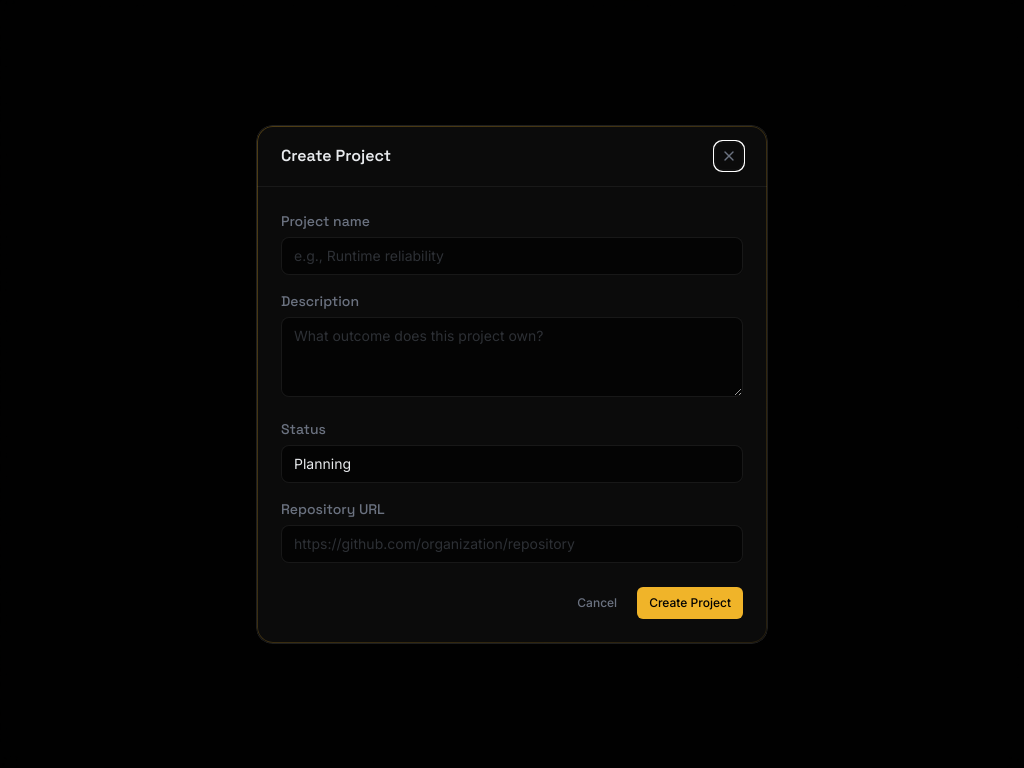
Test case: CreateProjectModal › keeps entries visible when the API rejects the write
Type "Runtime reliability" into the field labelled "Project name" at (512, 256), box [281,236,743,274]
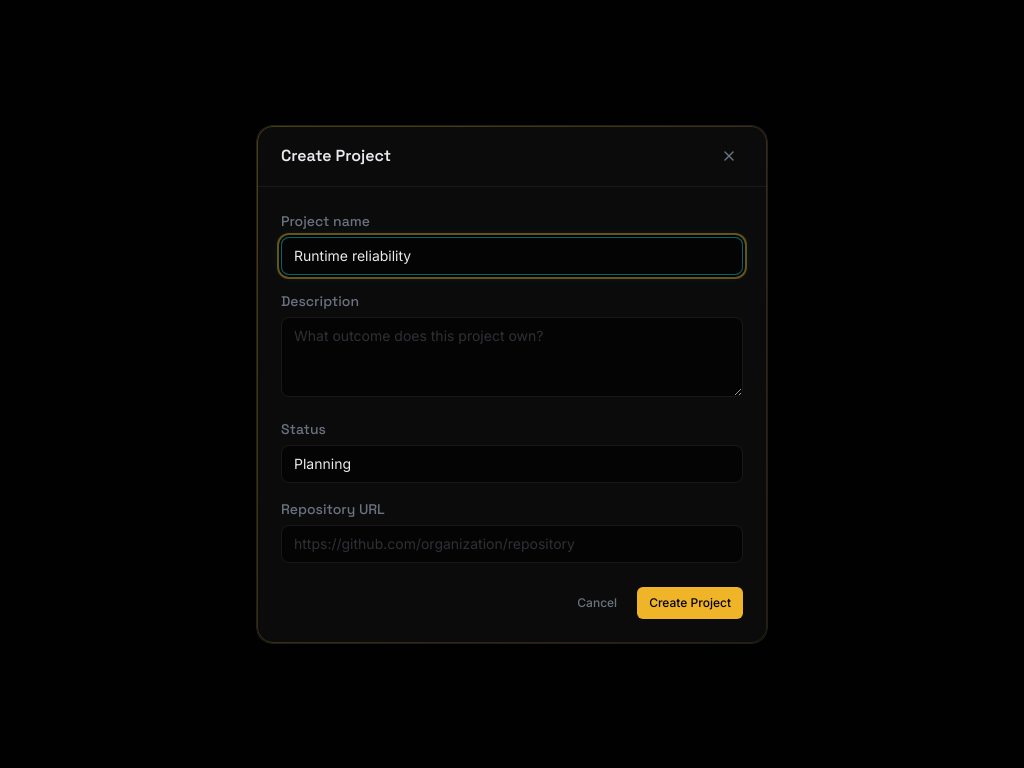
Click the button "Create Project" at (690, 602), box [637,586,743,618]
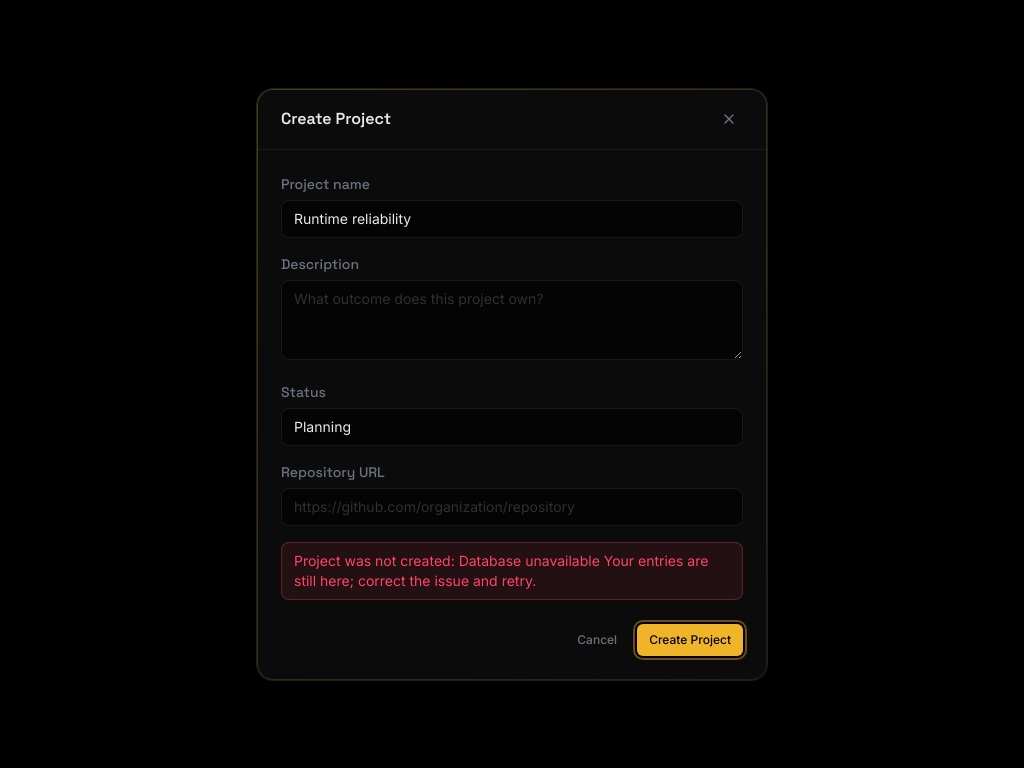
Result: the message shows "Database unavailable" at [459,552,600,568]
